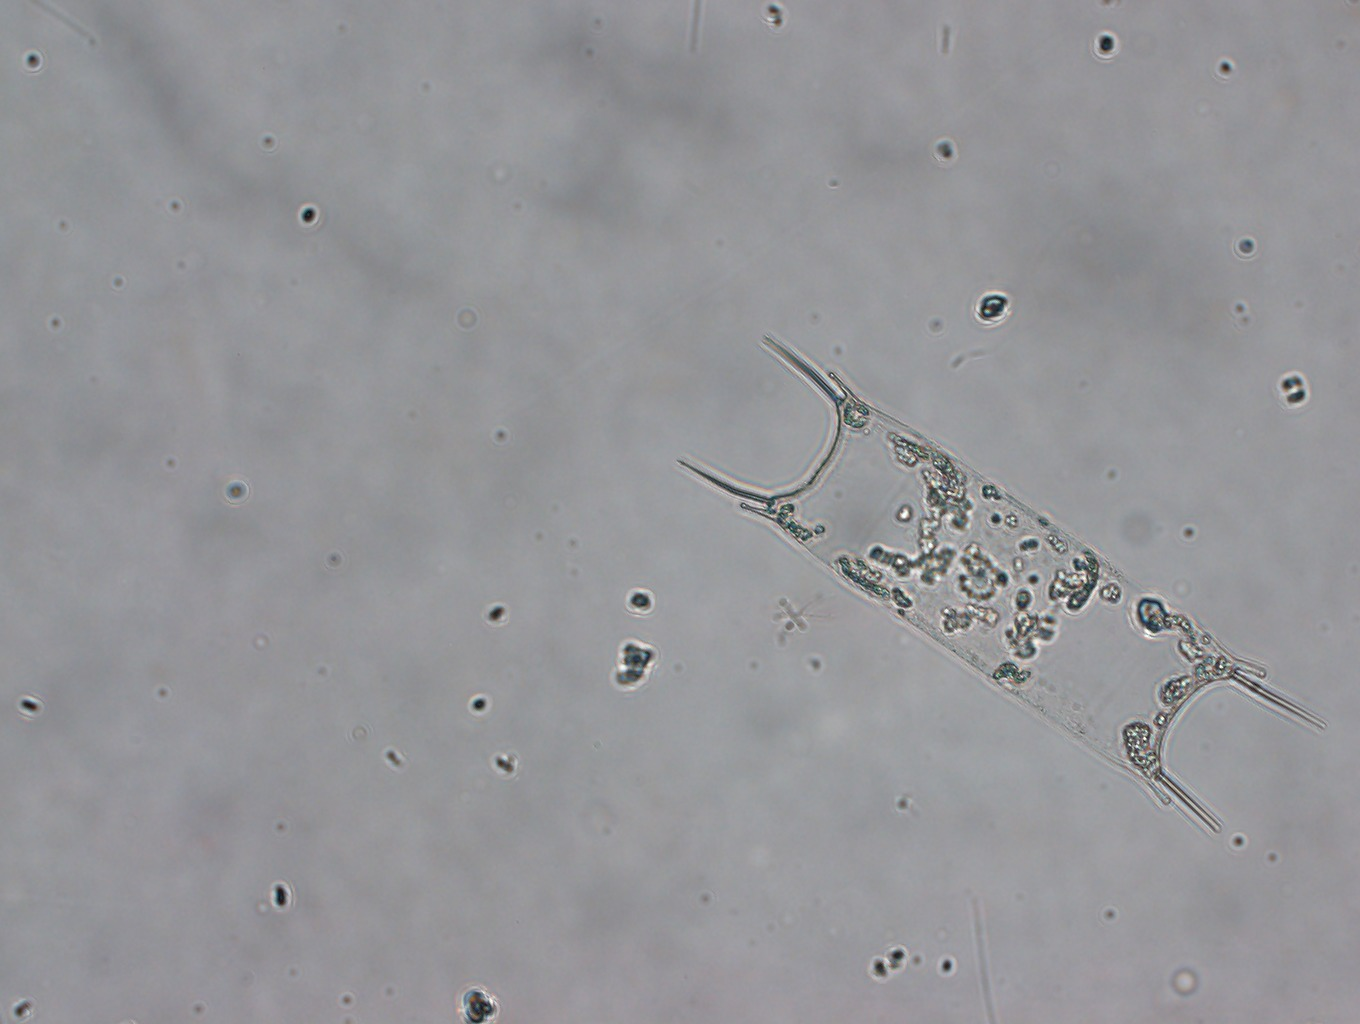biddulphia: (673, 335, 1329, 833)
